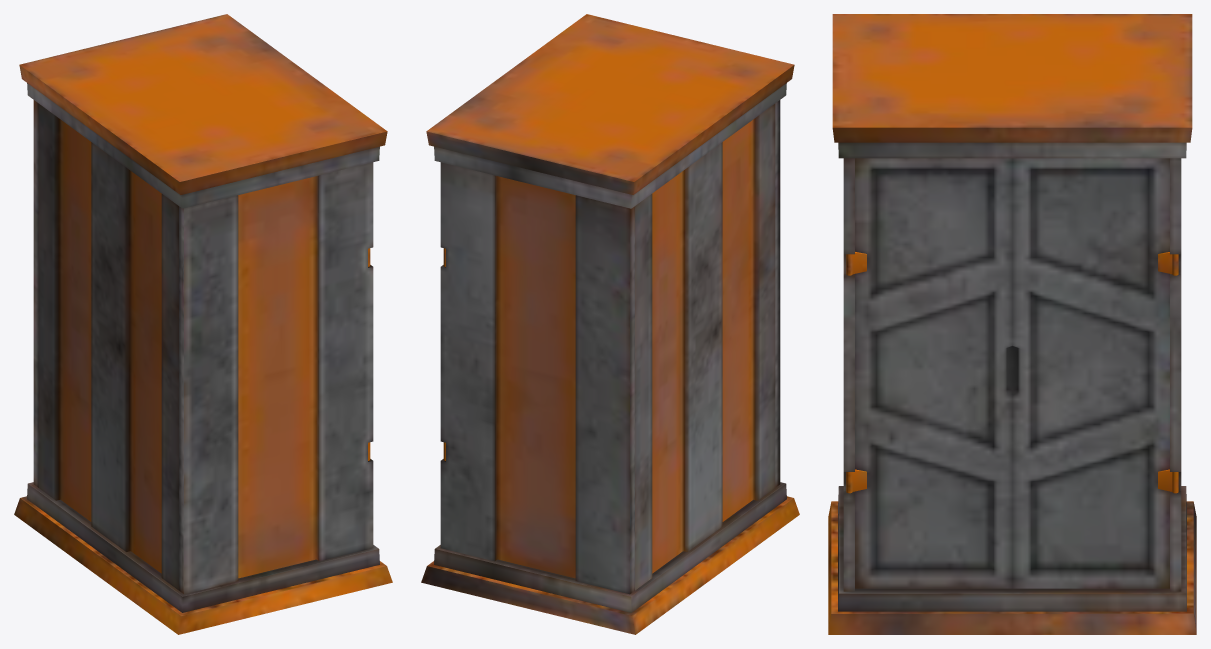
File: SM_ChestIron_538dc9.glb
The picture shows the model from 3 angles, left to right: view 1: azimuth 30°, elevation 25°; view 2: azimuth 150°, elevation 25°; view 3: azimuth 270°, elevation 25°; orthographic projection. The views are drawn at different scales.
Size of the model in its own units: 1.04 by 2.08 by 1.38.
1 material, 1 textured.
